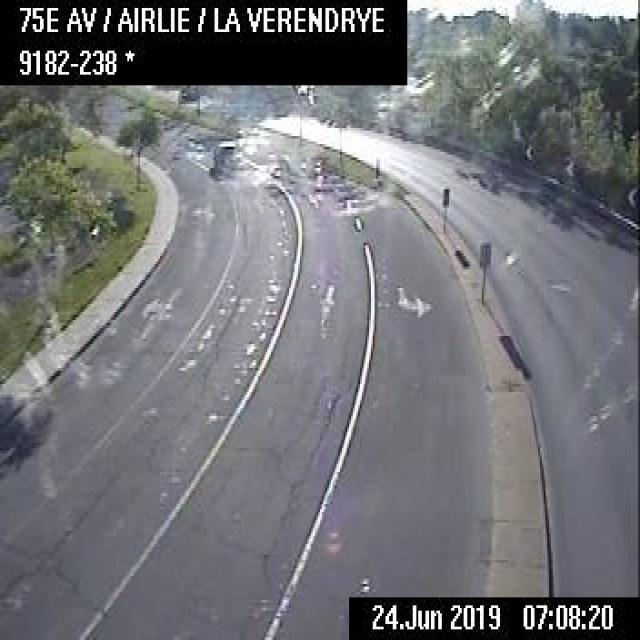vehicle: (212, 138, 238, 178)
